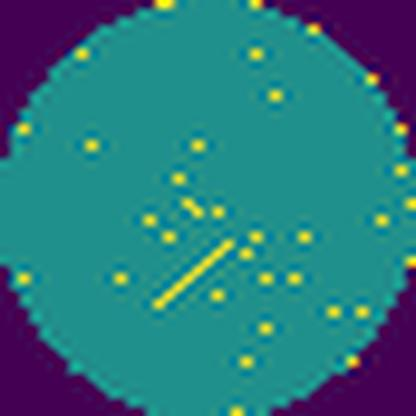Scratch: (144, 235, 238, 315)
